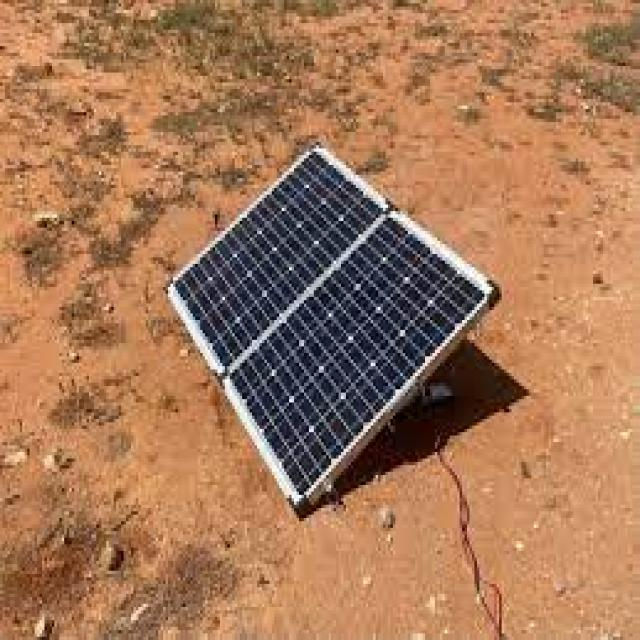no faulty: (228, 218, 481, 495), (168, 148, 381, 361)
